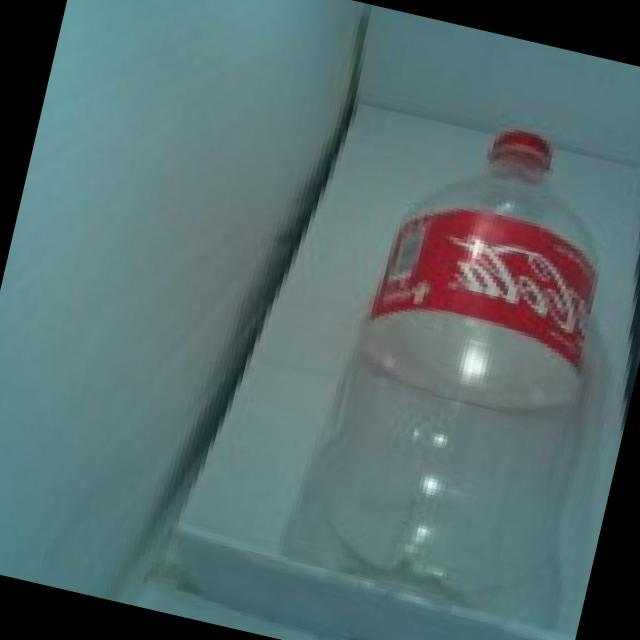good: (257, 86, 640, 639)
